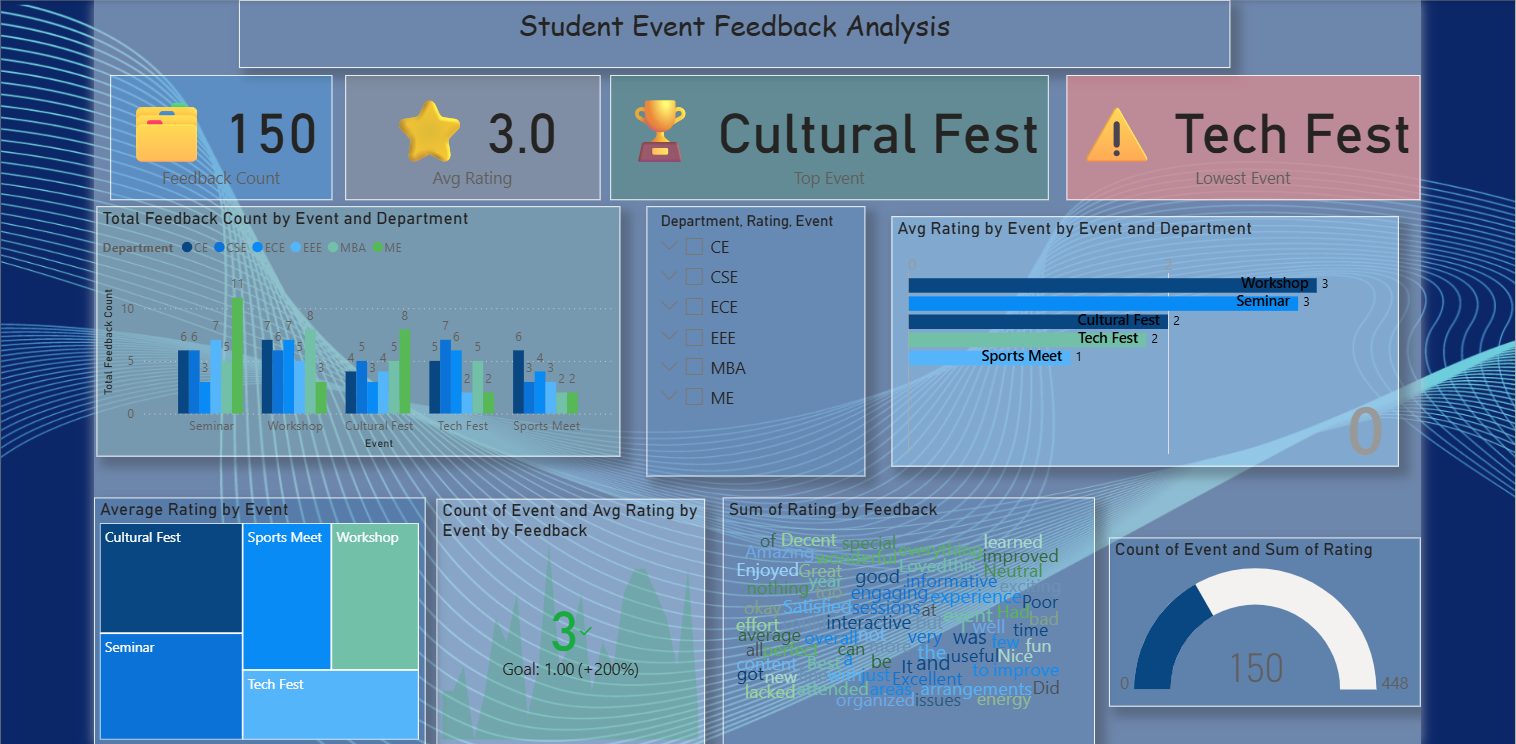

Layout of this report page (visuals, bound fields, positions):
{"tool":"powerbi","page":{"name":"Page 1","canvas":[1280,720],"ordinal":0},"visuals":[{"type":"textbox","box":[140,0,956.4,65.9],"z":0},{"type":"clusteredColumnChart","fields":{"Category":["student_feedback_task3.Event"],"Y":["student_feedback_task3.Total Feedback Count"],"Series":["student_feedback_task3.Department"]},"box":[2.4,199.1,505.5,241.3],"z":1000},{"type":"WordCloud1447959067750","fields":{"Category":["student_feedback_task3.Feedback"],"Values":["Sum(student_feedback_task3.Rating)"]},"box":[606.8,480.2,359.5,240.1],"z":2000},{"type":"slicer","fields":{"Values":["student_feedback_task3.Department","student_feedback_task3.Rating","student_feedback_task3.Event"]},"box":[533.2,199.1,211.1,260.6],"z":3000},{"type":"wishyoulizationbarchartrace","fields":{"name":["student_feedback_task3.Event"],"value":["student_feedback_task3.Avg Rating by Event"],"year":["student_feedback_task3.Department"]},"box":[769.7,208.7,489.8,241.3],"z":4000},{"type":"kpi","fields":{"Indicator":["CountNonNull(student_feedback_task3.Event)"],"Goal":["student_feedback_task3.Avg Rating by Event"],"TrendLine":["student_feedback_task3.Feedback"]},"box":[330.6,481.4,259.4,238.9],"z":5000},{"type":"treemap","fields":{"Details":["student_feedback_task3.Event"],"Values":["student_feedback_task3.Average Rating"]},"box":[0,480.2,319.7,240.1],"z":6000},{"type":"gauge","fields":{"MaxValue":["Sum(student_feedback_task3.Rating)"],"Y":["CountNonNull(student_feedback_task3.Event)"]},"box":[979.6,518.8,300.4,162.9],"z":7000},{"type":"card","fields":{"Values":["student_feedback_task3.Feedback Count"]},"box":[15.7,72.4,214.7,120.6],"z":8000},{"type":"card","fields":{"Values":["student_feedback_task3.Top Event"]},"box":[498.3,72.4,423.5,120.6],"z":9000},{"type":"card","fields":{"Values":["student_feedback_task3.Lowest Event"]},"box":[938.6,72.4,341.4,120.6],"z":10000},{"type":"card","fields":{"Values":["student_feedback_task3.Avg Rating"]},"box":[242.5,72.4,246.1,120.6],"z":11000}]}

Visuals, with their boxes in screenshot pixels (x1, y1, x2, y2):
textbox: 234,0,1242,62
clusteredColumnChart - student_feedback_task3.Event x student_feedback_task3.Total Feedback Count: 89,202,622,456
WordCloud1447959067750 - student_feedback_task3.Feedback x Sum(student_feedback_task3.Rating): 726,498,1105,743
slicer - student_feedback_task3.Department x student_feedback_task3.Rating: 649,202,871,477
wishyoulizationbarchartrace - student_feedback_task3.Event x student_feedback_task3.Avg Rating by Event: 898,212,1414,466
kpi - CountNonNull(student_feedback_task3.Event) x student_feedback_task3.Avg Rating by Event: 435,499,709,743
treemap - student_feedback_task3.Event x student_feedback_task3.Average Rating: 87,498,424,743
gauge - Sum(student_feedback_task3.Rating) x CountNonNull(student_feedback_task3.Event): 1119,539,1436,711
card - student_feedback_task3.Feedback Count: 103,68,330,196
card - student_feedback_task3.Top Event: 612,68,1058,196
card - student_feedback_task3.Lowest Event: 1076,68,1436,196
card - student_feedback_task3.Avg Rating: 342,68,602,196
